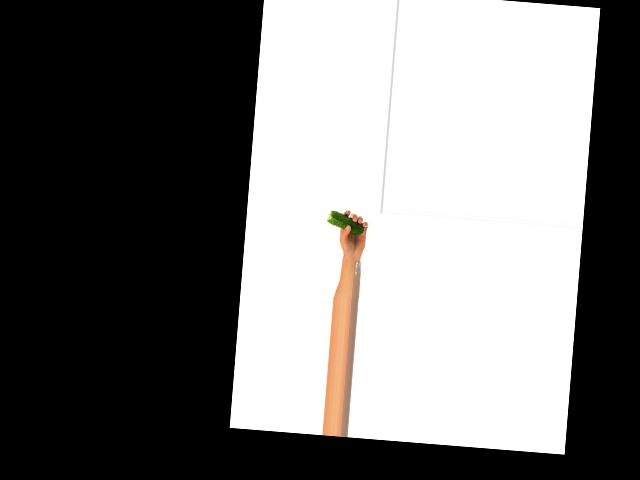cucumber: (326, 210, 366, 235)
